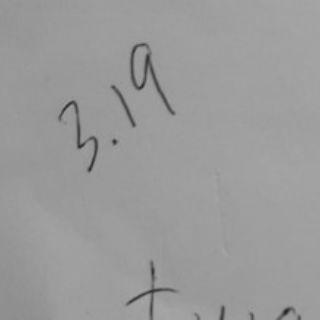.: (110, 132, 122, 149)
1: (108, 82, 138, 128)
3: (55, 91, 101, 174)
9: (128, 40, 181, 101)
